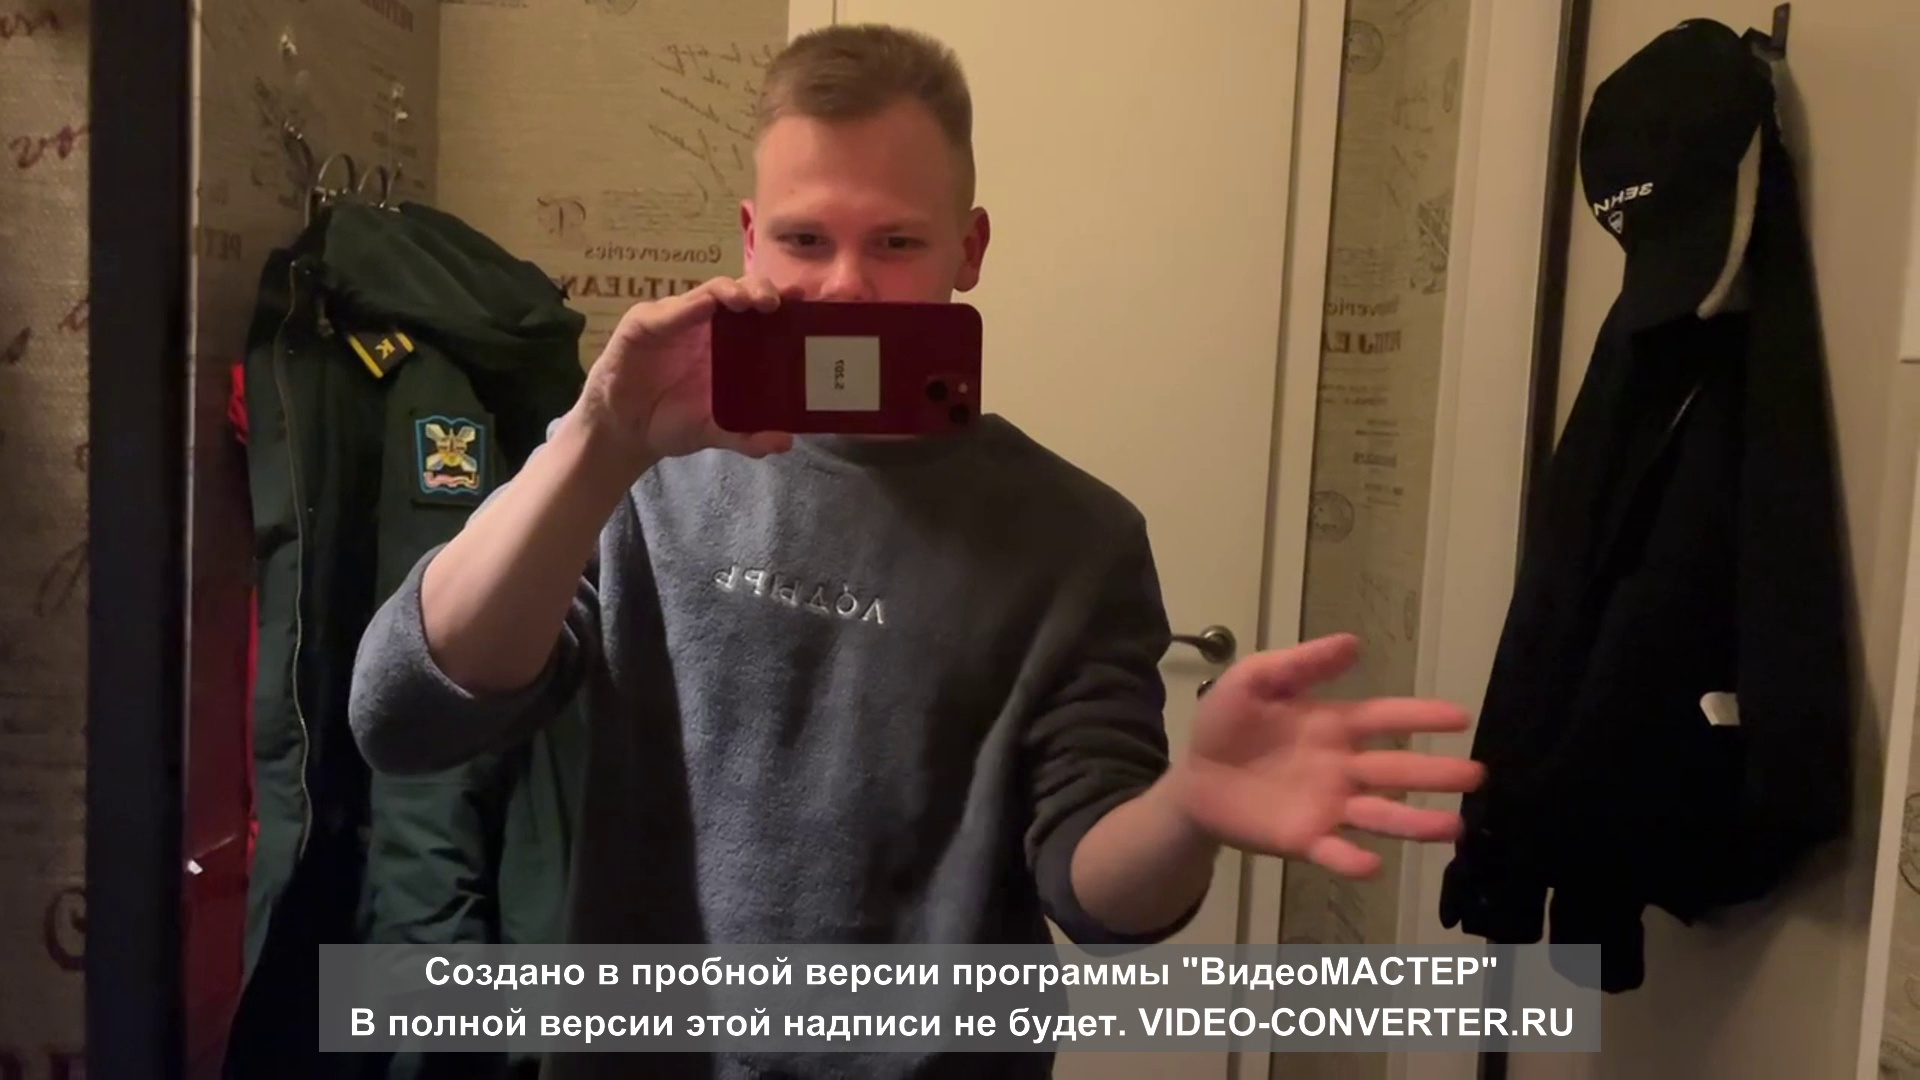Ладонь: (1193, 630, 1487, 877)
